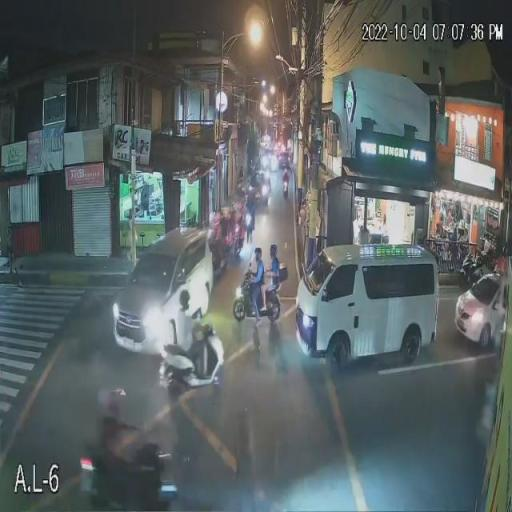helmet: (96, 386, 128, 418), (177, 288, 191, 316), (268, 245, 279, 260), (252, 246, 263, 260)
motorcycle: (152, 333, 223, 396), (232, 275, 283, 319), (247, 213, 252, 238), (283, 181, 287, 197)
rider: (95, 397, 122, 470), (176, 292, 195, 353), (249, 252, 264, 308), (267, 251, 282, 297), (247, 196, 253, 212), (283, 170, 288, 181)
